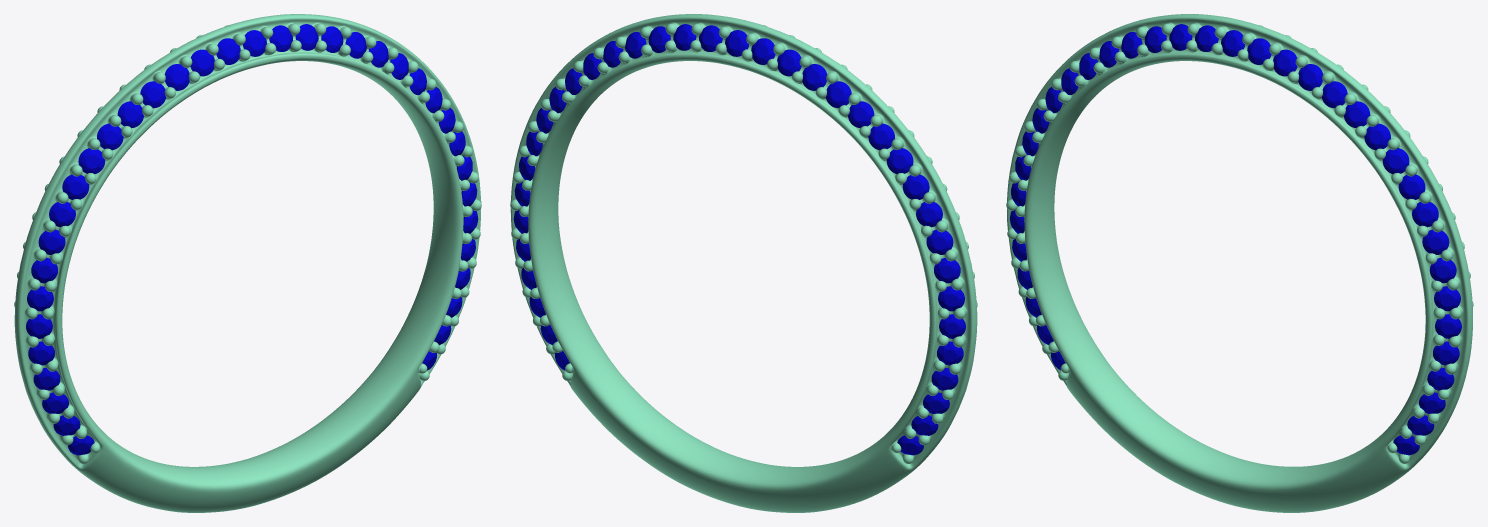
3 renders of one model, left to right at view 1: azimuth 30°, elevation 25°; view 2: azimuth 150°, elevation 25°; view 3: azimuth 330°, elevation 25°, orthographic.
Visible parts, largest first — view 1: Metal03, Diamond_Band.060, Diamond_Band.061, Diamond_Band.058, Diamond_Band.057, Diamond_Band.062, Diamond_Band.059, Diamond_Band.063, Diamond_Band.064; view 2: Metal03, Diamond_Band.013, Diamond_Band.012, Diamond_Band.015, Diamond_Band.011, Diamond_Band.010, Diamond_Band.014, Diamond_Band.016, Diamond_Band.009, Diamond_Band.017; view 3: Metal03, Diamond_Band.048, Diamond_Band.049, Diamond_Band.051, Diamond_Band.047, Diamond_Band.050, Diamond_Band.052, Diamond_Band.046, Diamond_Band.045.
Boxes of the visible parts, x1,y1,x2,y2 form: Metal03: (14,14,481,512); Diamond_Band.060: (97,123,123,150); Diamond_Band.061: (78,148,105,173); Diamond_Band.058: (140,81,166,108); Diamond_Band.057: (164,64,189,90); Diamond_Band.062: (62,174,89,199); Diamond_Band.059: (117,101,143,128); Diamond_Band.063: (49,202,75,227); Diamond_Band.064: (38,229,65,254); Metal03: (510,14,977,512); Diamond_Band.013: (868,123,894,150); Diamond_Band.012: (886,148,913,174); Diamond_Band.015: (825,81,851,108); Diamond_Band.011: (902,174,929,199); Diamond_Band.010: (916,202,942,227); Diamond_Band.014: (848,101,874,127); Diamond_Band.016: (802,64,827,90); Diamond_Band.009: (926,229,953,254); Diamond_Band.017: (777,49,801,76); Metal03: (1006,14,1473,512); Diamond_Band.048: (1382,148,1409,173); Diamond_Band.049: (1364,123,1390,150); Diamond_Band.051: (1321,81,1347,108); Diamond_Band.047: (1398,174,1425,199); Diamond_Band.050: (1344,101,1370,127); Diamond_Band.052: (1298,64,1323,90); Diamond_Band.046: (1412,202,1438,227); Diamond_Band.045: (1422,229,1449,254).
Bounding box in the file's own units: 20.91 × 20.88 × 2.06.
